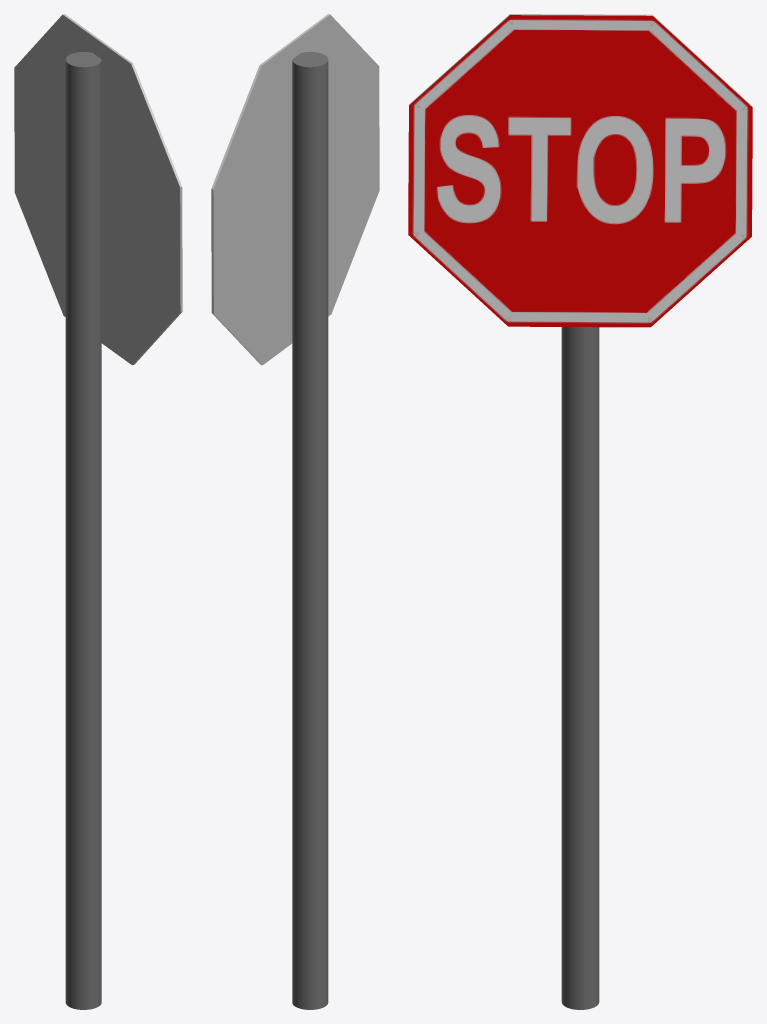
Rendered from teste.obj.
3 renders of one model, left to right at view 1: azimuth 30°, elevation 25°; view 2: azimuth 150°, elevation 25°; view 3: azimuth 270°, elevation 25°, orthographic. The views are drawn at different scales.
Parts seen in each view (by area): view 1: Stop; view 2: Stop; view 3: Stop.
Boxes of the visible parts, box(x1,y1,x2,y2) form: Stop: box(14, 14, 182, 1009); Stop: box(211, 14, 379, 1009); Stop: box(408, 14, 752, 1009).
Bounding box in the file's own units: 0.2025 × 5.9 × 1.85.
3 materials, 1 textured.
